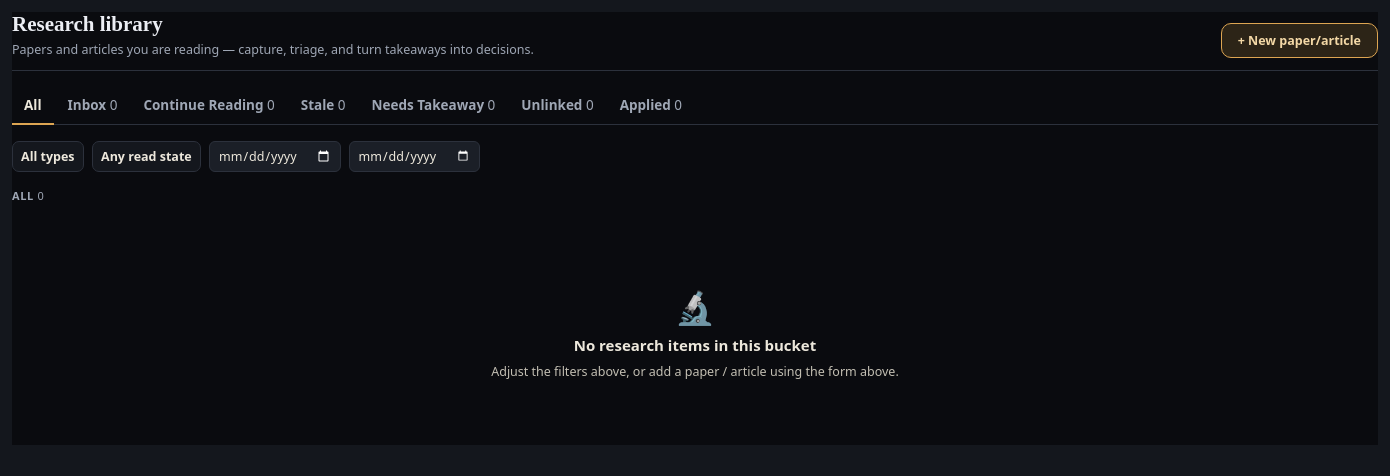
Test: ResearchView › disables add until title and source are both entered
This screenshot has width=1390, height=476.
Click the button "+ New paper/article". click: (1299, 40)
box: [1221,23,1378,58]
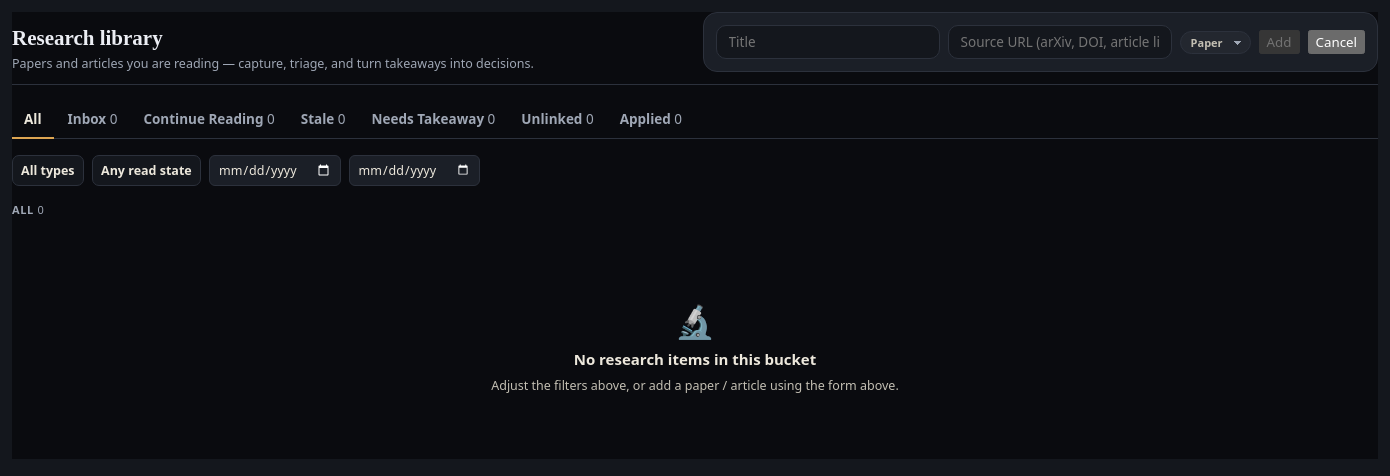
Now the button "Add" is disabled, box [1259,30,1300,54]
Type "New paper" into the field with placeholder "Title". click: (828, 42)
box: [716,25,940,59]
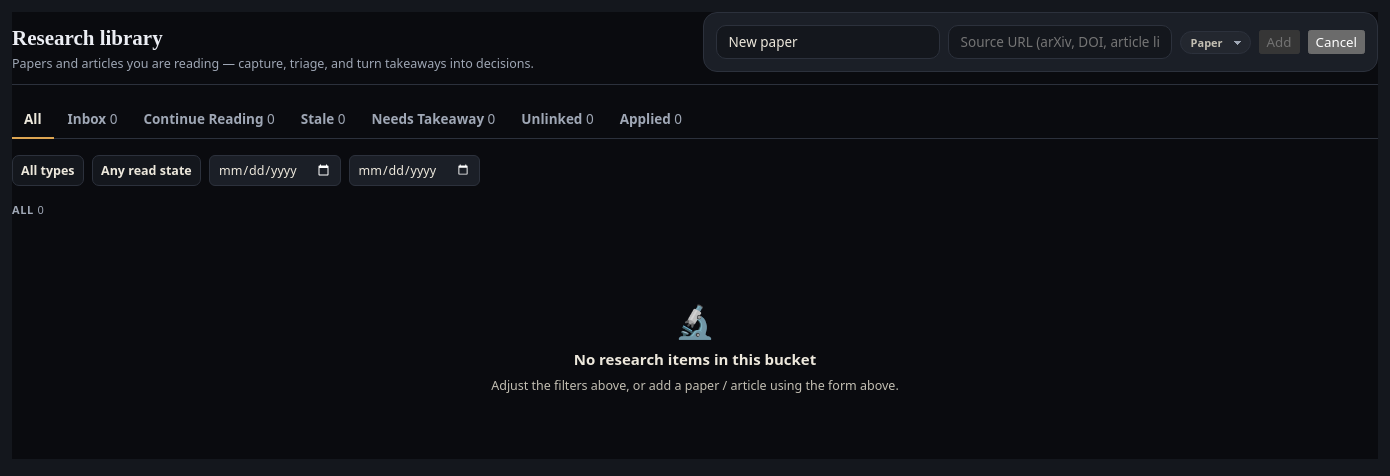
Now the button "Add" is disabled, box [1259,30,1300,54]
Type "https://arxiv.org/abs/2401.00001" into the field with placeholder "Source URL (arXiv, DOI, article link…)". click: (1060, 42)
box: [948,25,1172,59]
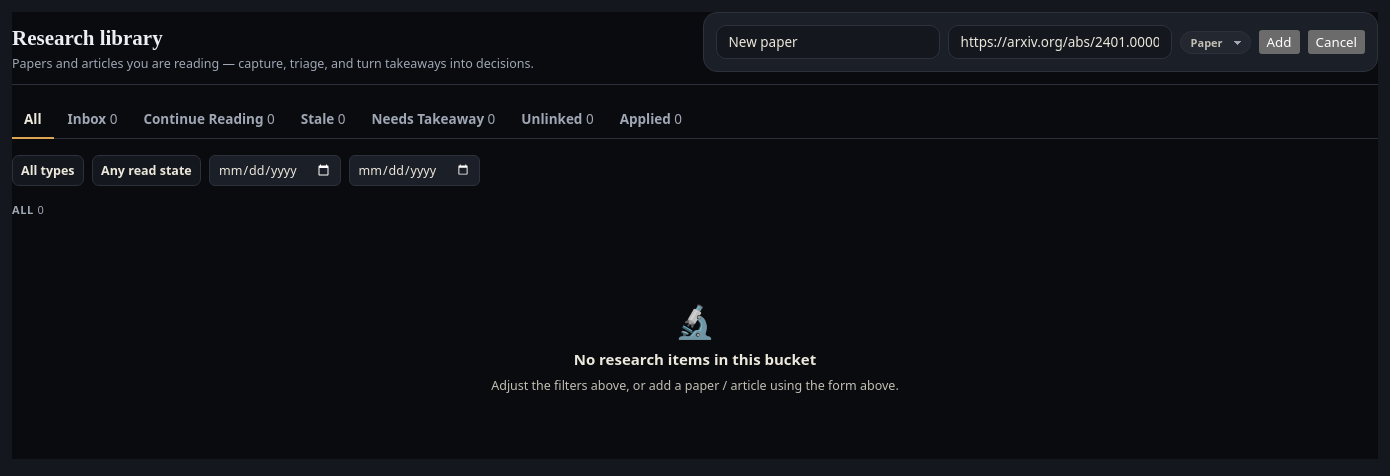
Now the button "Add" is enabled, box [1259,30,1300,54]
